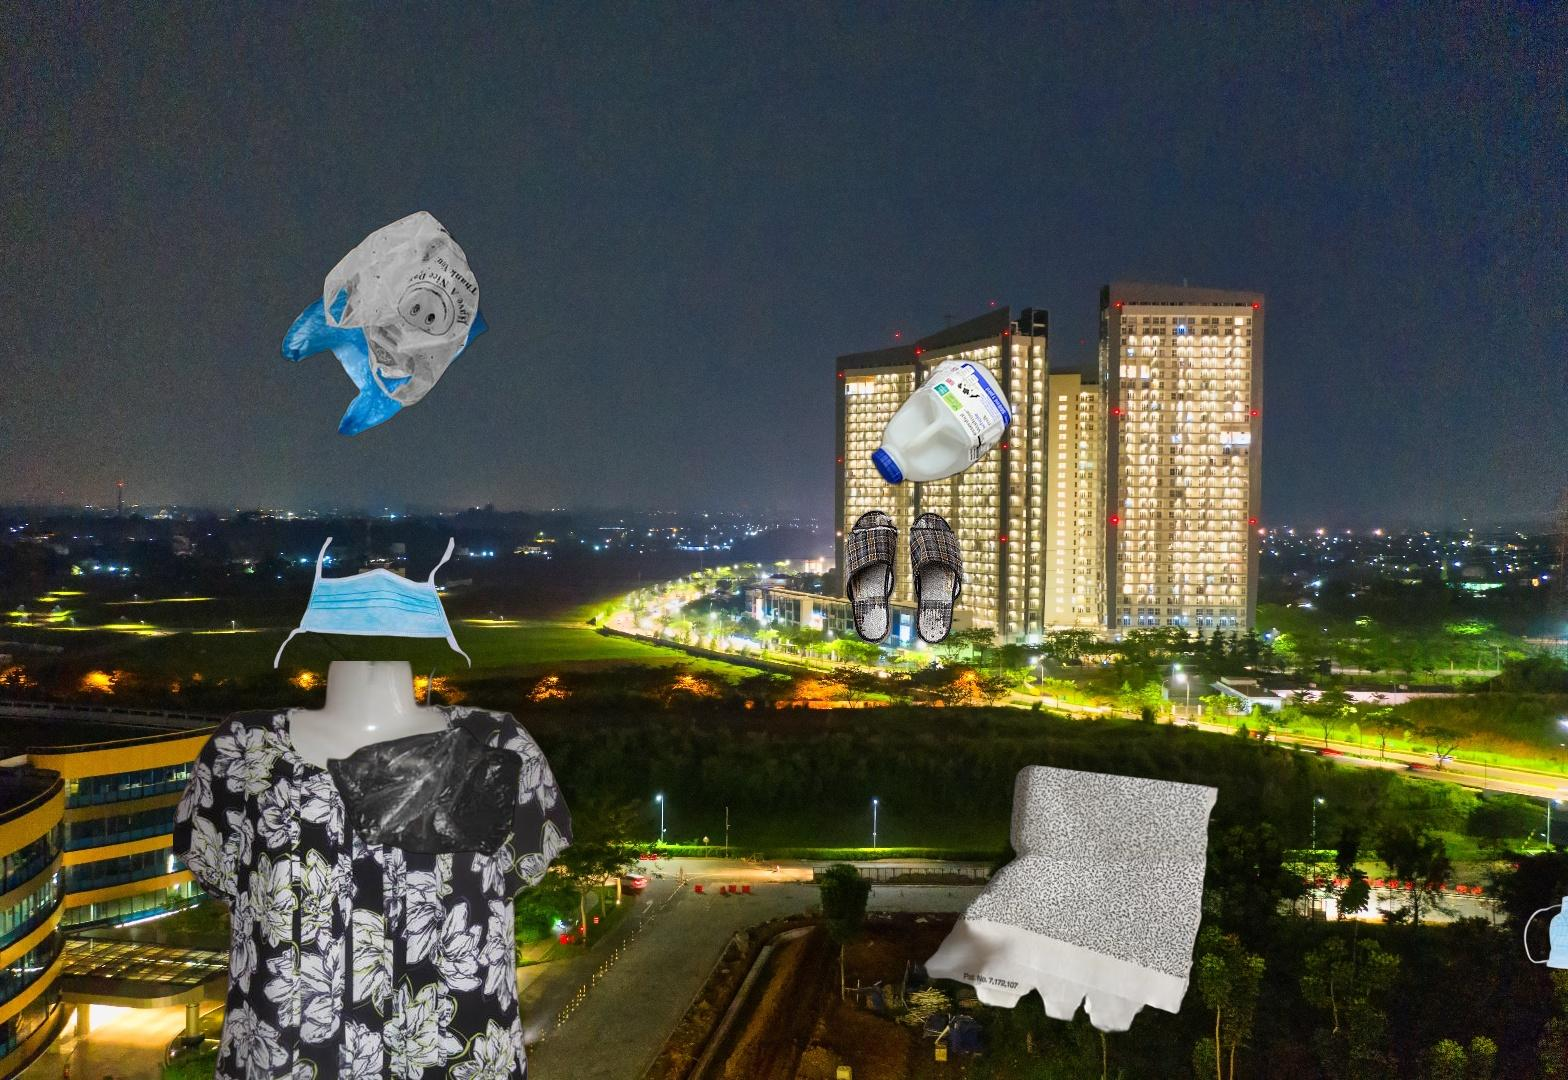clothes: (173, 662, 573, 1080)
paper: (869, 761, 1225, 1039)
plastic-bag: (278, 207, 491, 439), (324, 724, 525, 859)
plastic-bottles: (866, 352, 1018, 497)
shoes: (842, 507, 966, 648)
trash: (270, 534, 474, 671), (1522, 886, 1568, 975)
